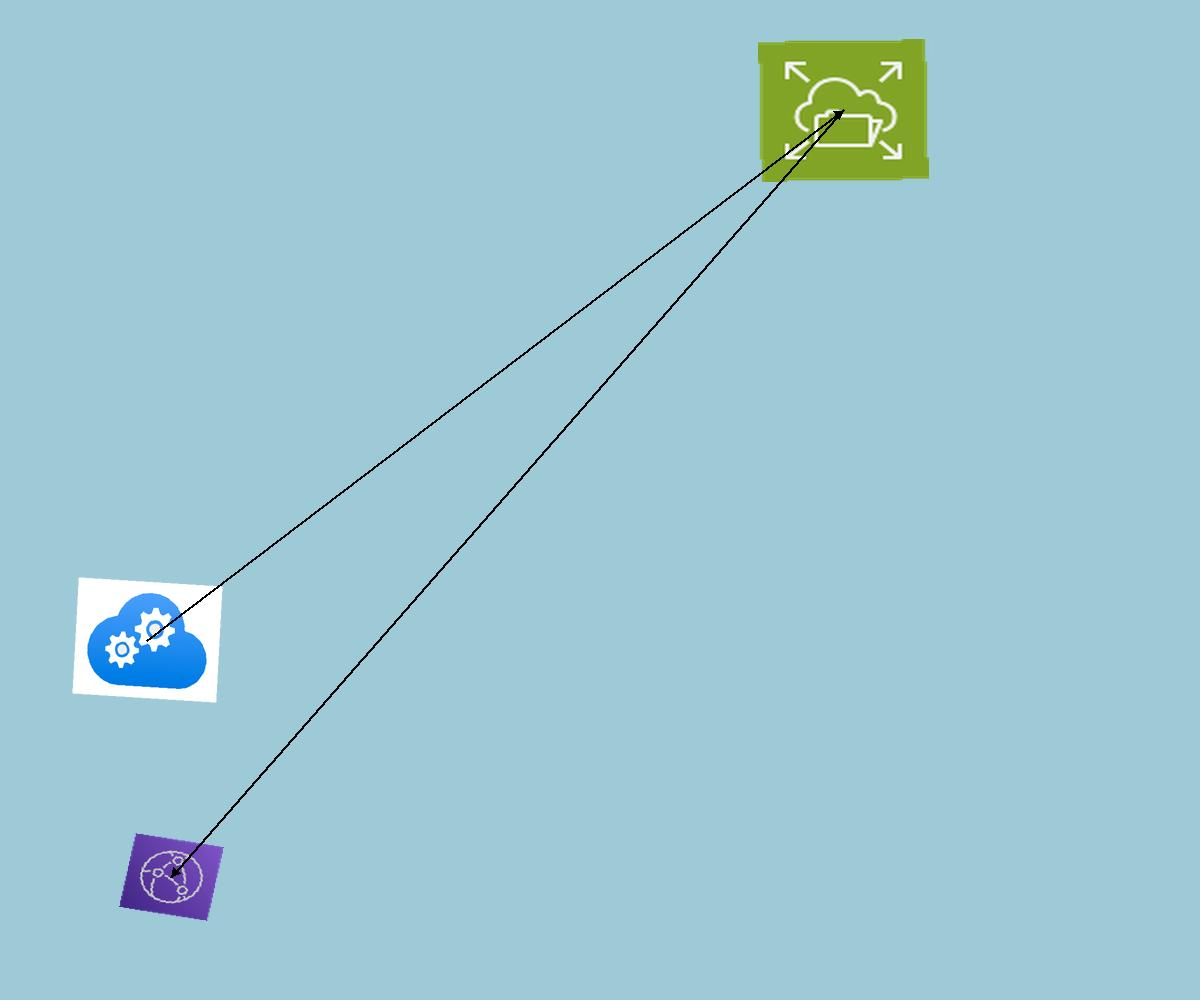AWS-CloudFront: (119, 833, 224, 921)
AWS-EFS: (758, 39, 929, 182)
Azure_cloud_services: (72, 577, 223, 703)
